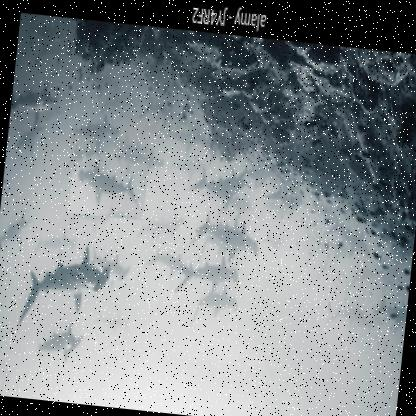hammerhead_Shark: (10, 240, 119, 334), (67, 150, 149, 220)
